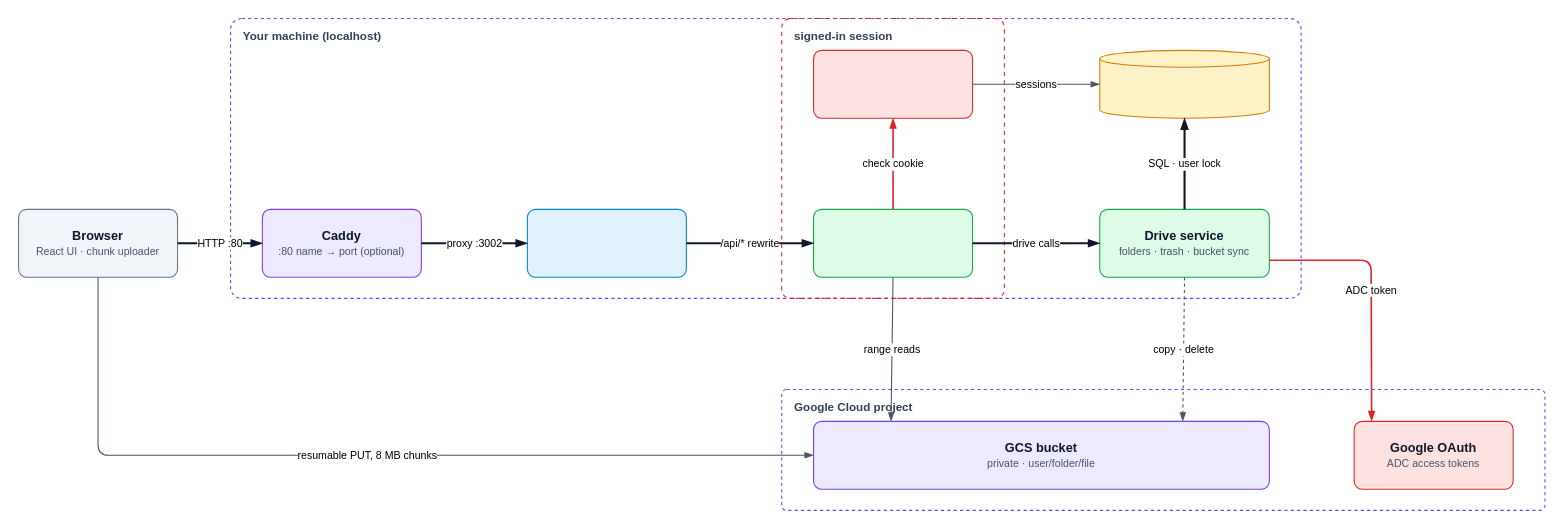
Image size: 1563x529. Some labels were removed from this diagram. Here are the shapes that lost their labels. From the top down, the box of each, then its label:
(812, 49, 973, 118): Auth & sessions argon2id · JWT cookies
(1099, 49, 1269, 118): PostgreSQL users · folders · files
(526, 208, 686, 277): Next.js web app :3002 pages + /api proxy
(812, 208, 973, 277): FastAPI :8002 routes · streaming
